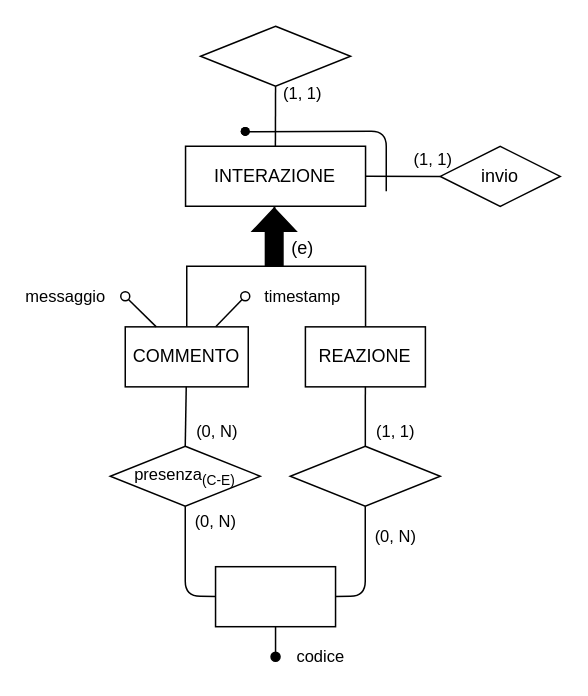
The diagram is 588 pixels wide and 696 high, and some of its shapes have lost their labels. Each missing label, with the centre of its shape:
"EMOJI" belongs at pixel 275 596.
"gestione (I-R)" belongs at pixel 275 55.
"presenza (R-E)" belongs at pixel 364 475.
